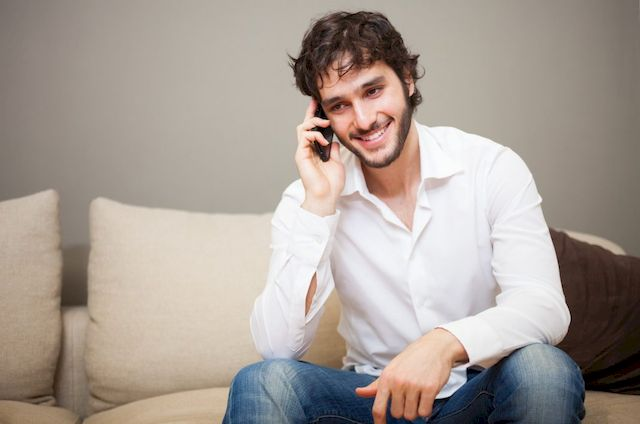phone: (300, 95, 334, 164)
talk: (294, 73, 409, 192)
